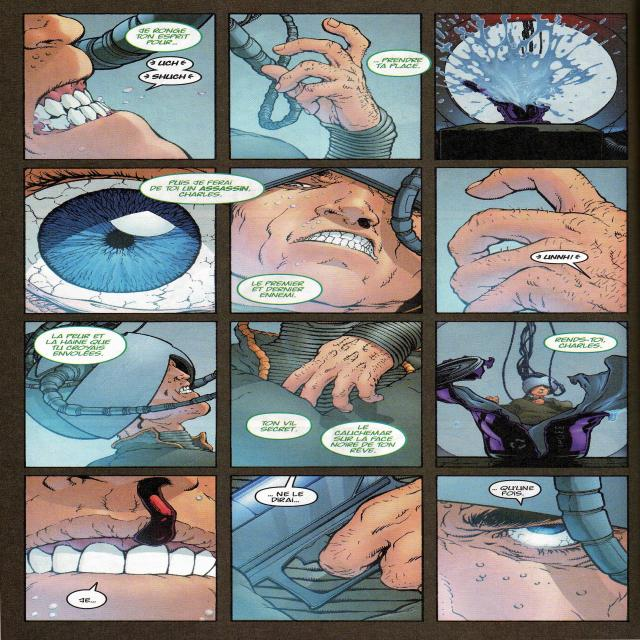comic_panel: (228, 12, 432, 160), (21, 12, 217, 161), (431, 12, 628, 160), (23, 320, 218, 469), (435, 474, 630, 623), (228, 166, 424, 314), (23, 474, 219, 622), (434, 166, 629, 314), (229, 320, 423, 468), (230, 474, 424, 622), (22, 167, 217, 314), (434, 321, 629, 468)
